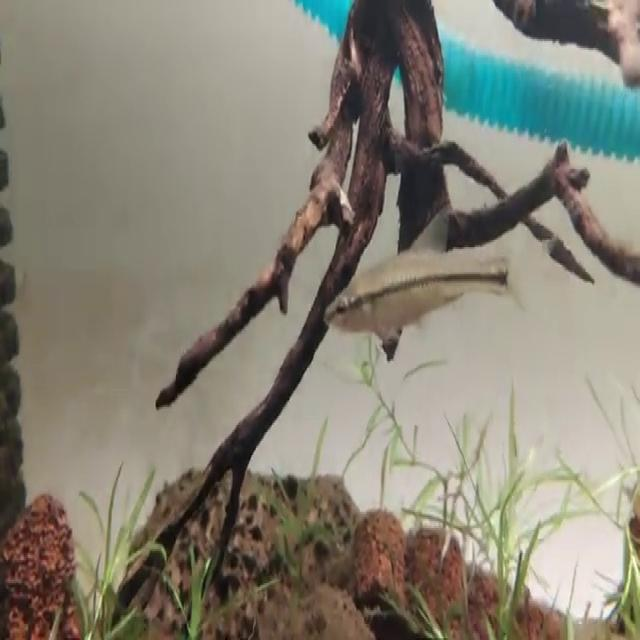Cakil Baligi: (327, 206, 553, 360)
